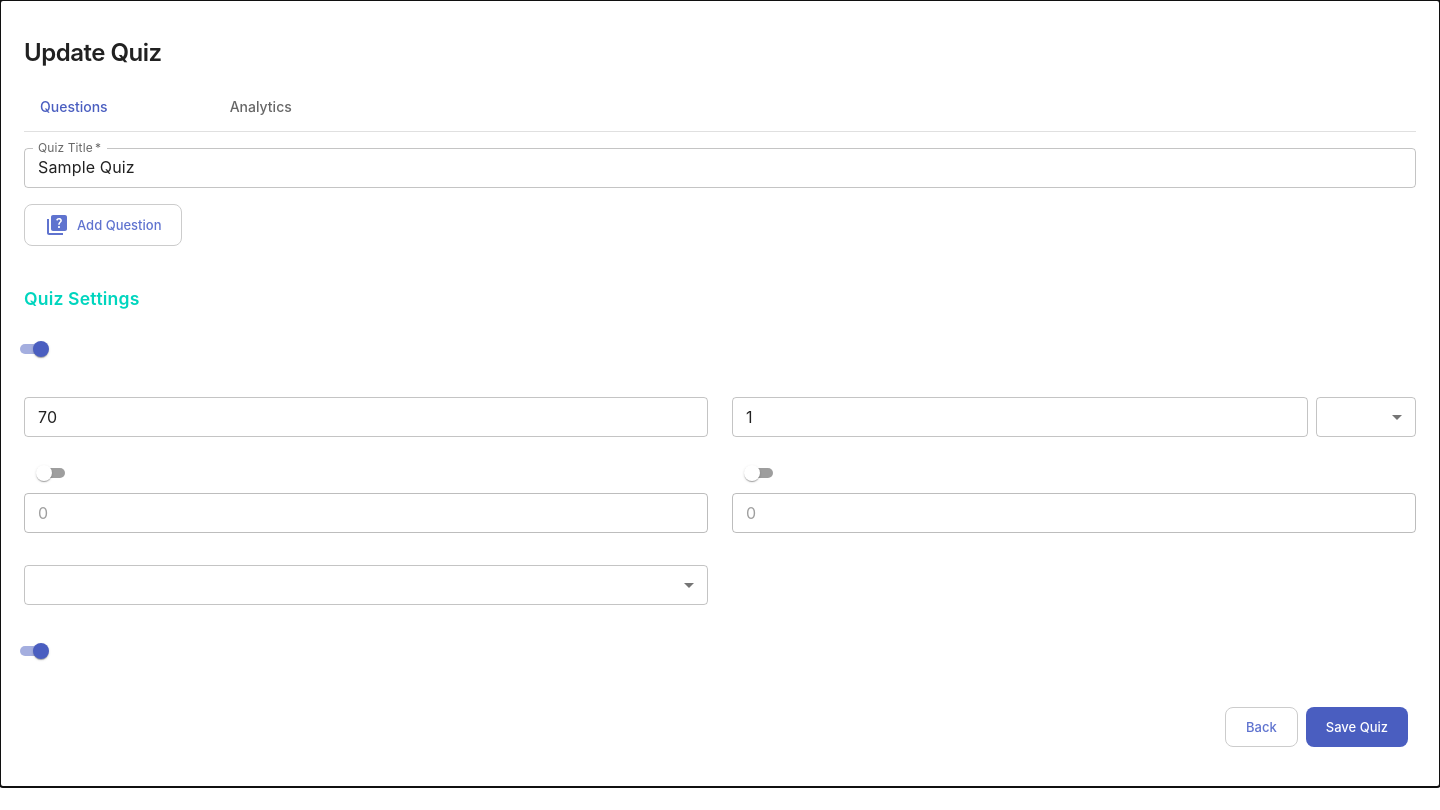
Scenario: QuizForm tabs › loads analytics only after the tab is opened
Click the tab "Analytics" at (261, 107), box x1=214 y1=83 x2=308 y2=131
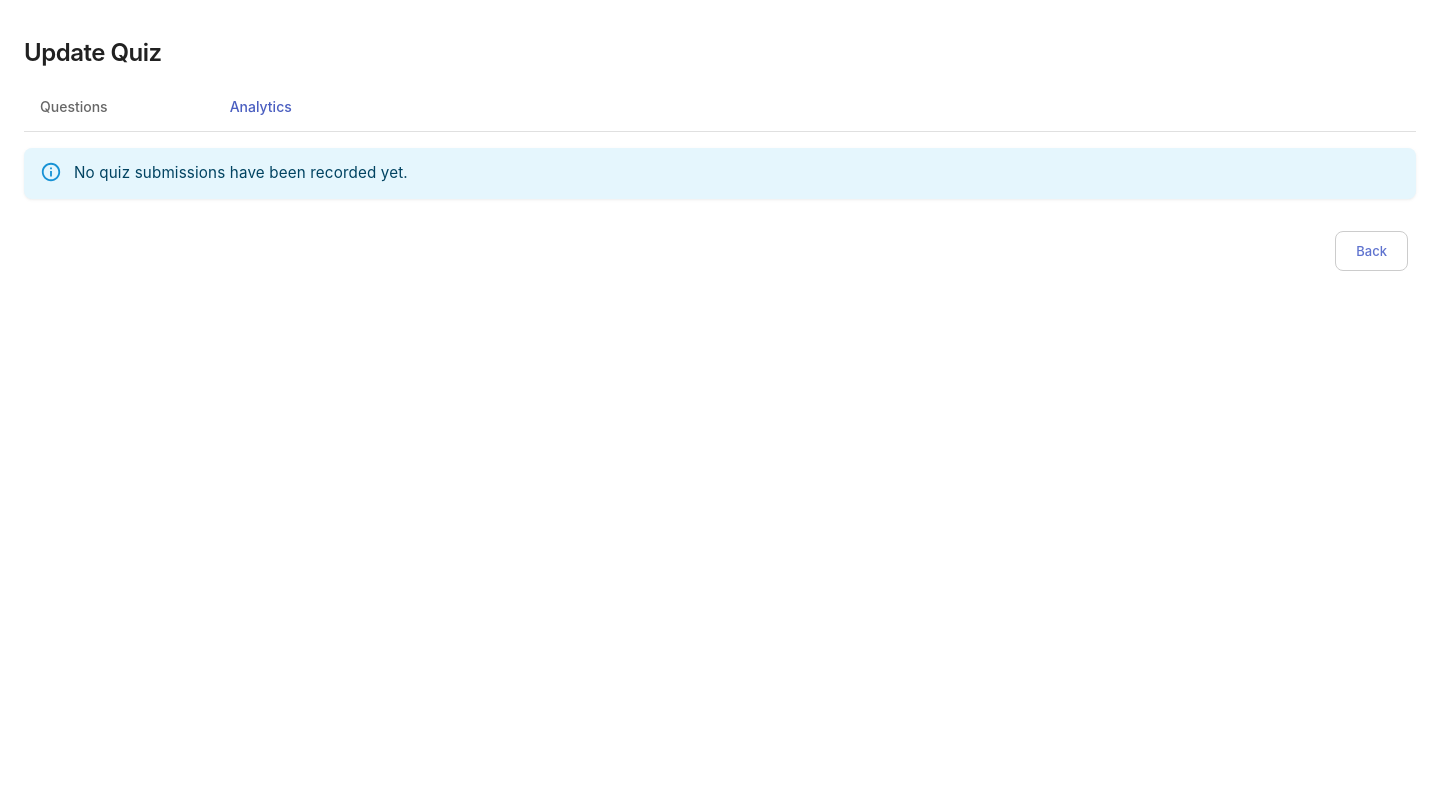
Now the text "No quiz submissions have been recorded yet." is shown, box x1=74 y1=163 x2=408 y2=182
